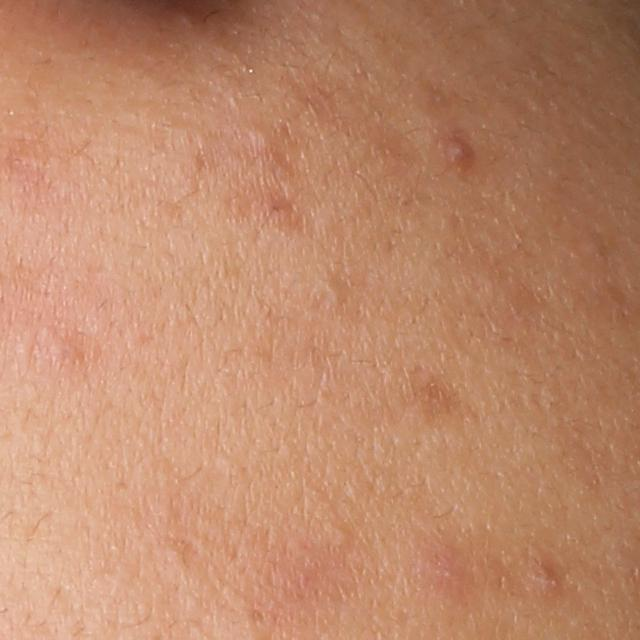comedo: (35, 327, 74, 372), (245, 122, 280, 152), (320, 273, 350, 308), (330, 528, 357, 552)
papule: (523, 555, 564, 598), (444, 138, 471, 173)
